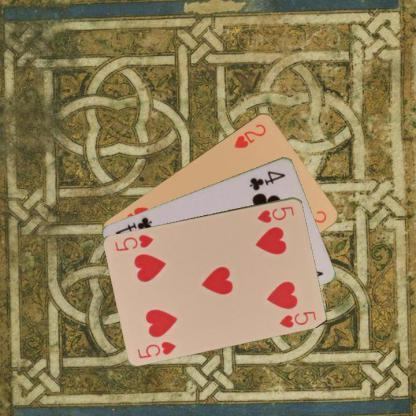2h: (232, 121, 268, 150)
4c: (247, 168, 287, 192)
5h: (134, 338, 178, 360), (255, 203, 296, 224)
